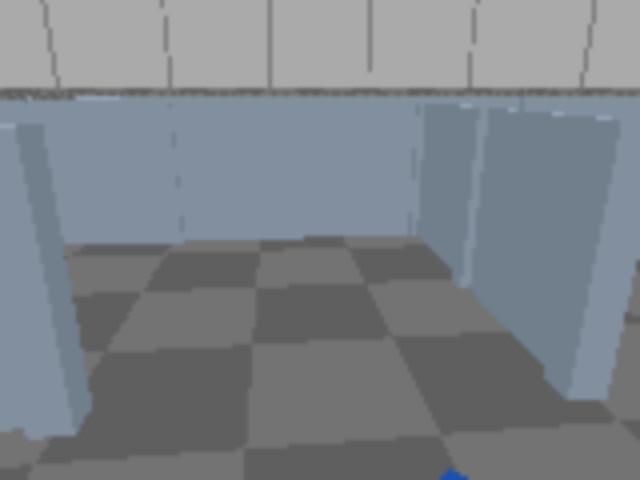puck: (430, 468, 488, 478)
